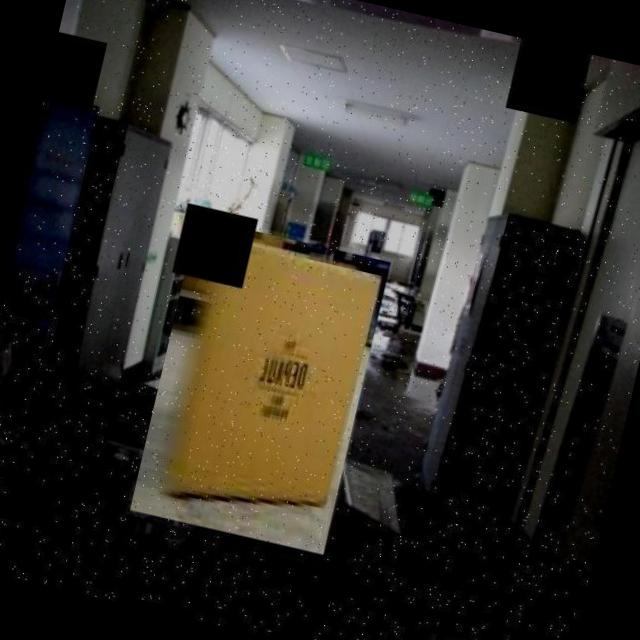box: (124, 212, 393, 560)
